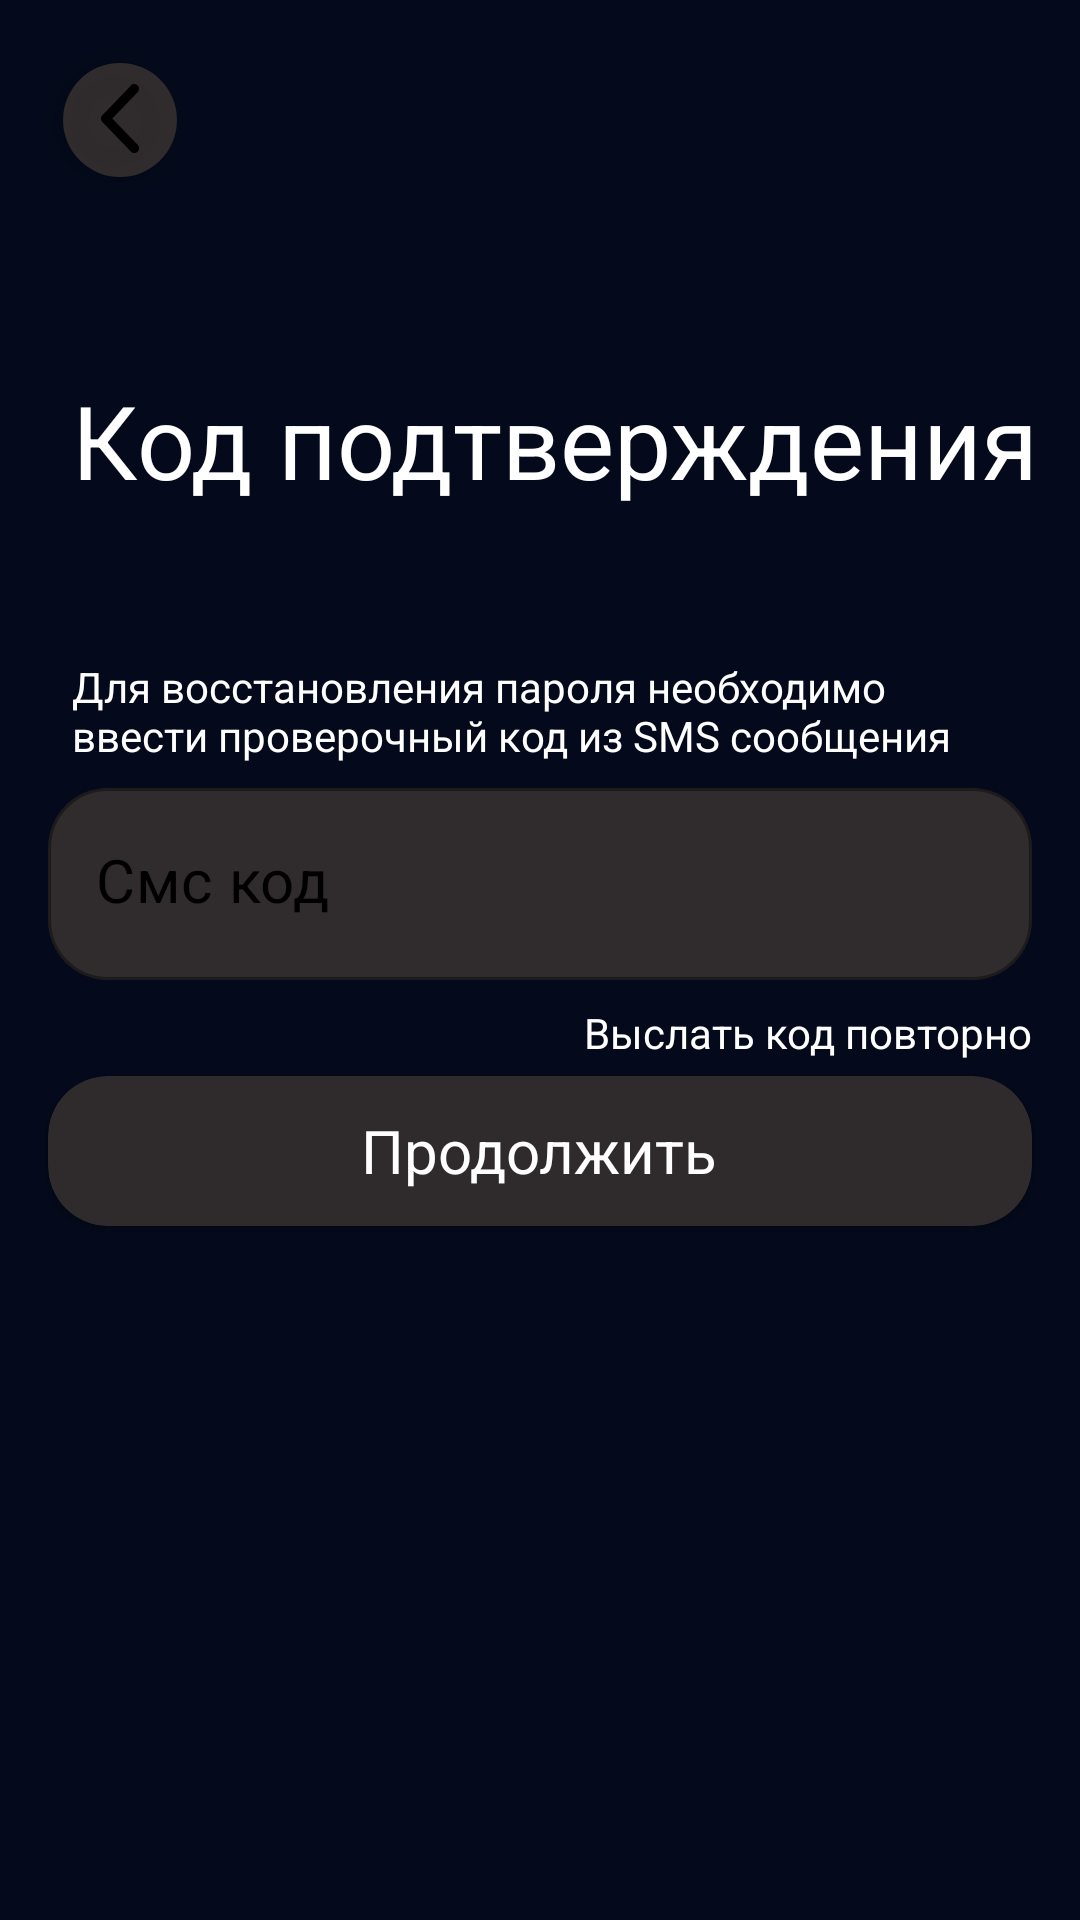

Screen size 1080x1920. Icon name, then its box in pixels as bbox=[x1, y1, x2, y2]:
backpress: bbox=[63, 63, 177, 177]
